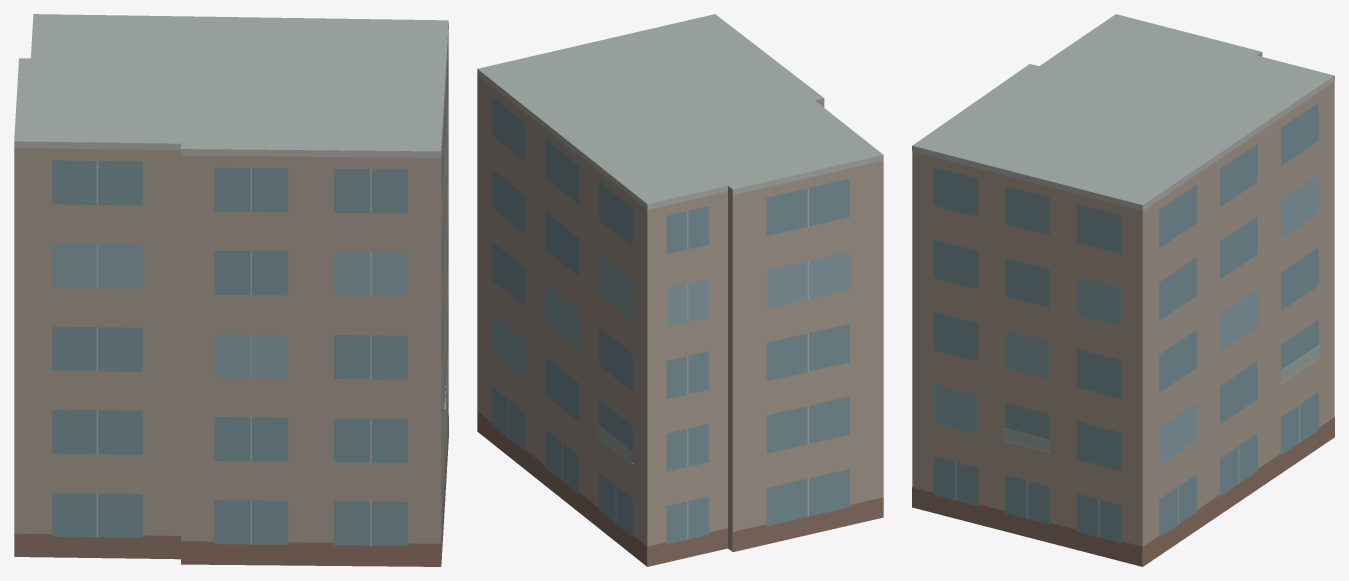
The model's file is survey-upis-32926374.glb.
3 renders of one model, left to right at view 1: azimuth 30°, elevation 25°; view 2: azimuth 150°, elevation 25°; view 3: azimuth 270°, elevation 25°, orthographic. The views are drawn at different scales.
Parts seen in each view (by area): view 1: survey-upis-32926374.tmp; view 2: survey-upis-32926374.tmp; view 3: survey-upis-32926374.tmp.
Part boxes in pixels (x1,y1,x2,y2): survey-upis-32926374.tmp: (14,14,448,566); survey-upis-32926374.tmp: (477,14,883,566); survey-upis-32926374.tmp: (912,14,1334,566).
Bounding box in the file's own units: 17.35 × 15.3 × 16.21.
